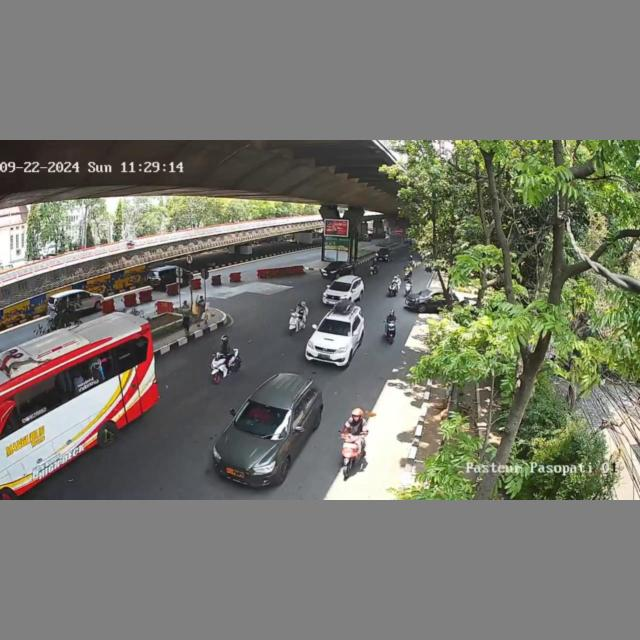windshield: (233, 399, 291, 437), (319, 316, 351, 339), (327, 281, 352, 291)
